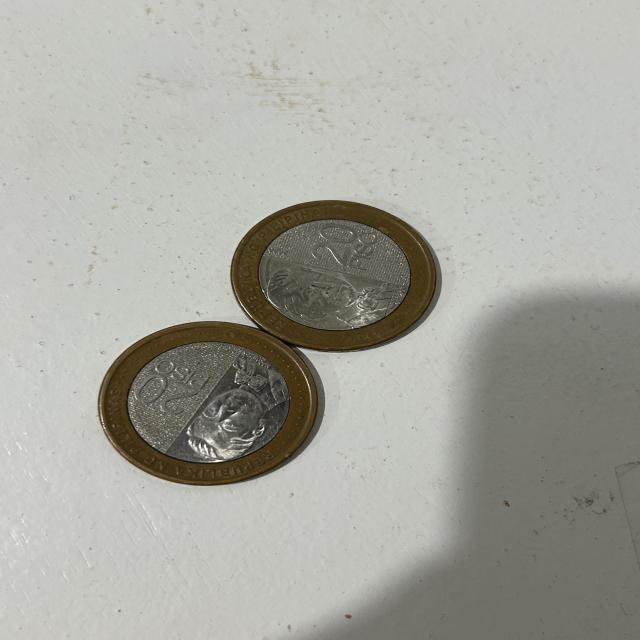20_New_Front: (137, 348, 209, 419), (308, 215, 391, 276)
